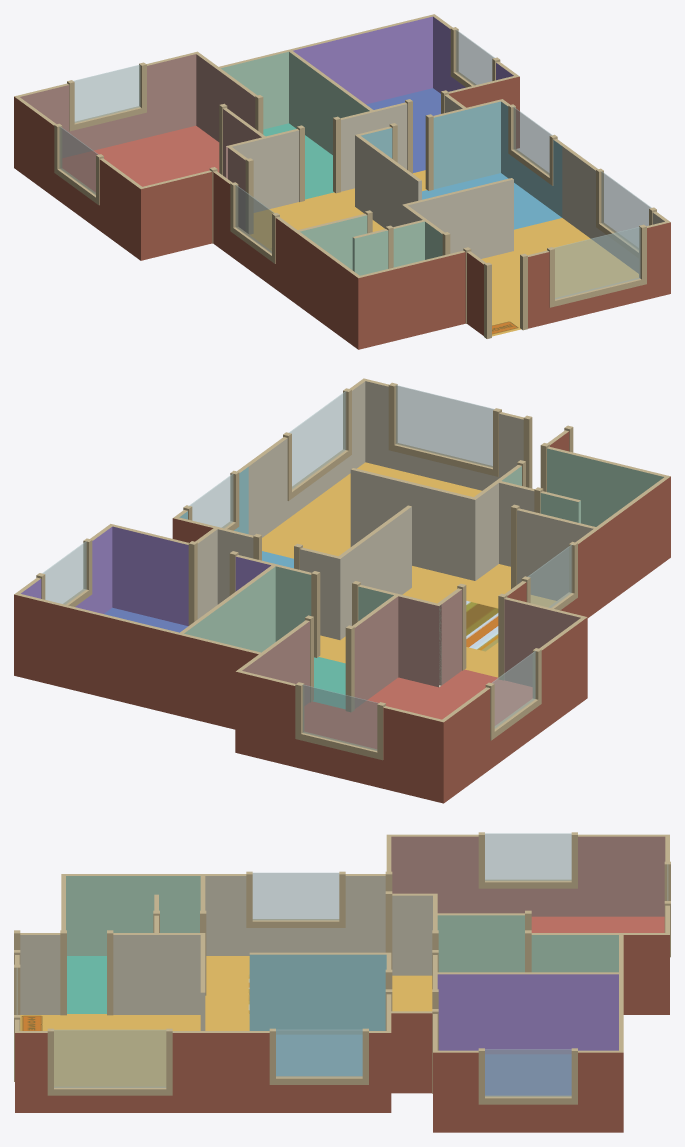
The model's file is Walls.fbx.
3 views of the same model, one above another, from view 1: azimuth 30°, elevation 25°; view 2: azimuth 150°, elevation 25°; view 3: azimuth 270°, elevation 25° (orthographic). The views are drawn at different scales.
Visible parts, largest first — view 1: interior; view 2: interior; view 3: interior.
Boxes of the visible parts, x1=… form: interior: x1=14, y1=14, x2=670, y2=349; interior: x1=14, y1=378, x2=670, y2=803; interior: x1=14, y1=832, x2=670, y2=1132.
Bounding box in the file's own units: 223 × 39 × 283.
Materials: 9 (1 with a texture image).
